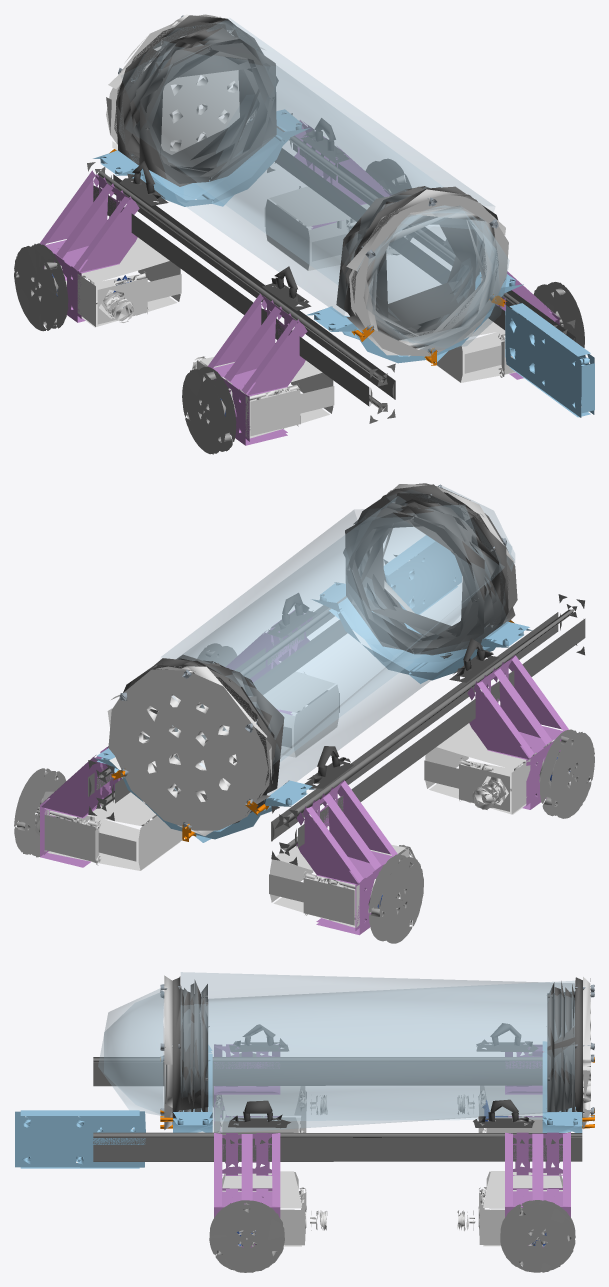
The model's file is base_phy.obj.
3 views of the same model, one above another, from view 1: azimuth 30°, elevation 25°; view 2: azimuth 150°, elevation 25°; view 3: azimuth 270°, elevation 25° (orthographic). The views are drawn at different scales.
Parts seen in each view (by area): view 1: mesh1634; view 2: mesh1634; view 3: mesh1634.
Boxes of the visible parts, x1,y1,x2,y2 form: mesh1634: [14, 14, 594, 454]; mesh1634: [14, 483, 594, 943]; mesh1634: [15, 972, 594, 1272].
Bounding box in the file's own units: 0.2717 × 0.181 × 0.4397.
